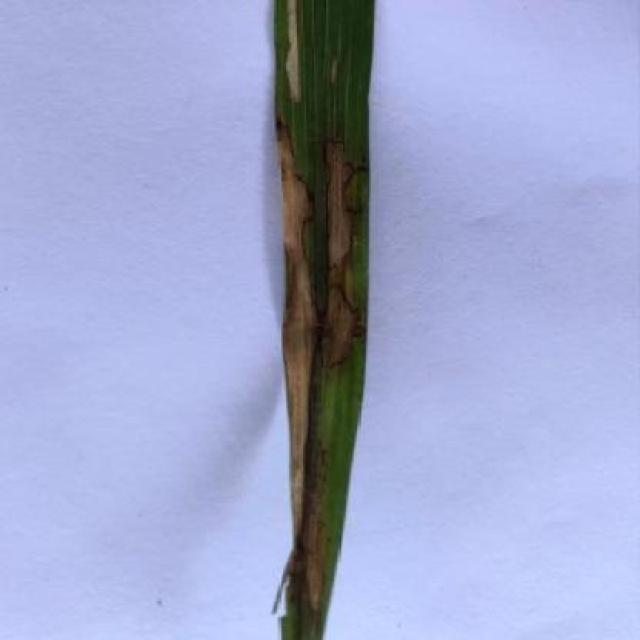Brown_Spot: (264, 0, 378, 640)
